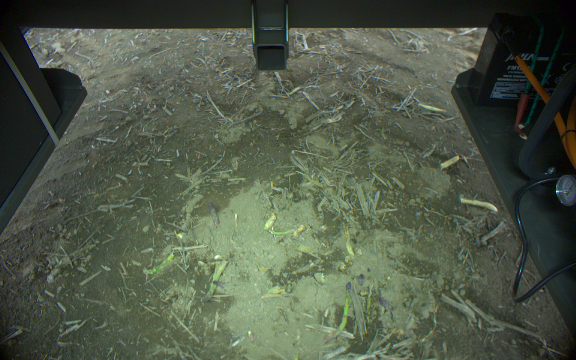aspa: (324, 281, 351, 343), (199, 257, 228, 303), (146, 251, 175, 275), (207, 201, 220, 227)
